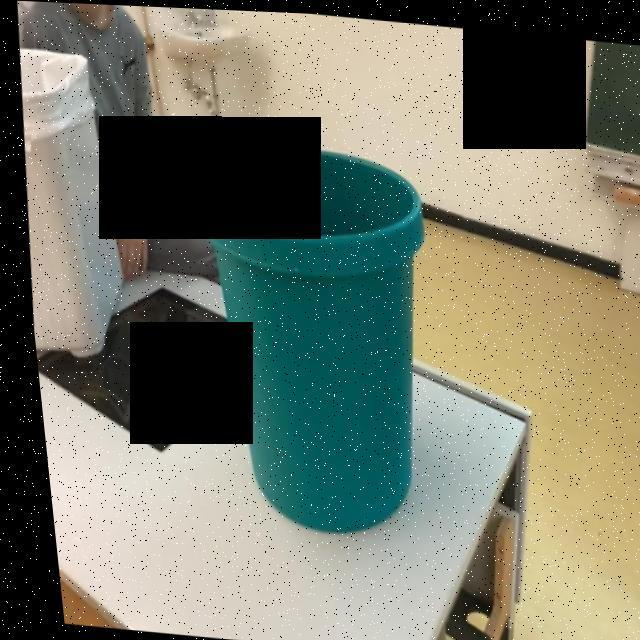bin: (157, 76, 512, 591)
